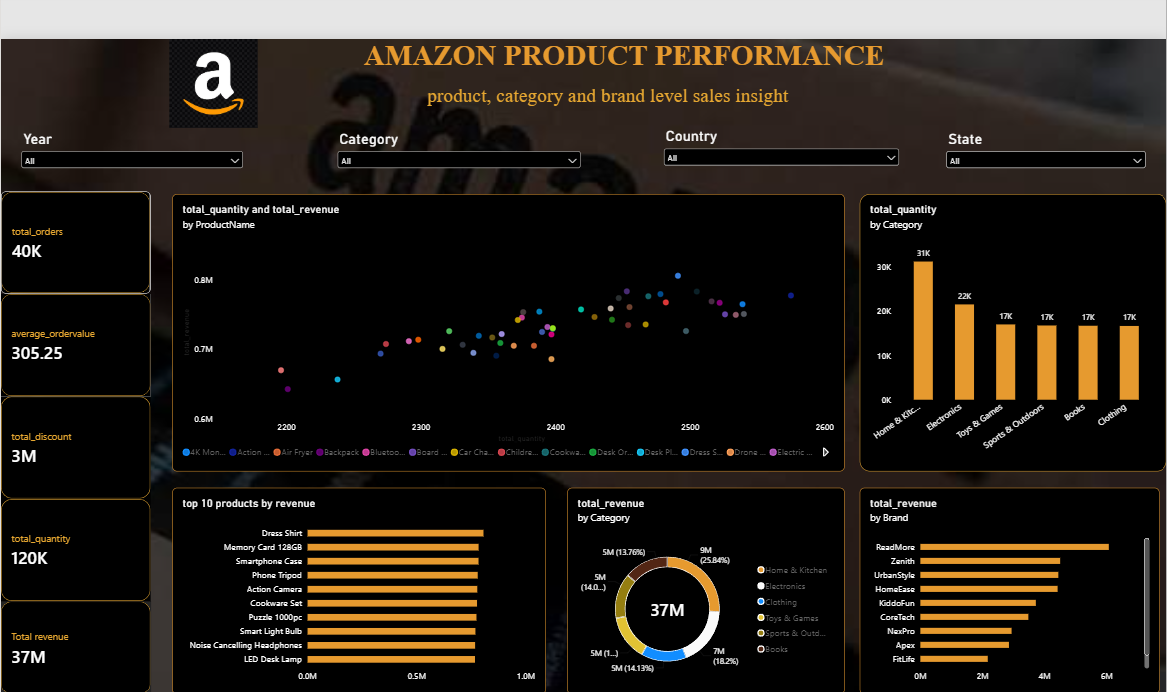

This screenshot's page, from the dashboard's own definition file:
{"tool":"powerbi","page":{"name":"Product performance","canvas":[1920,1080],"ordinal":1},"visuals":[{"type":"textbox","box":[275.8,0,1500.5,98.8],"z":0},{"type":"textbox","box":[701.9,74.1,977.7,72],"z":1000},{"type":"image","box":[181.1,0,337.6,146.1],"z":2000},{"type":"cardVisual","title":"total revenue","fields":{"Data":["factorders.total_revenue"]},"box":[0,926.2,247,154.4],"z":3000},{"type":"cardVisual","fields":{"Data":["factorders.total_quantity"]},"box":[0,757.5,246,168.8],"z":4000},{"type":"cardVisual","fields":{"Data":["factorders.average_ordervalue"]},"box":[0,419.9,246,168.8],"z":5000},{"type":"cardVisual","fields":{"Data":["factorders.total_discount"]},"box":[0,588.7,246,168.8],"z":6000},{"type":"cardVisual","fields":{"Data":["factorders.total_orders"]},"box":[0,251.1,246,168],"z":7000},{"type":"clusteredColumnChart","fields":{"Category":["dimproduct.Category"],"Y":["factorders.total_quantity"]},"box":[1414.1,255.2,506.3,456.9],"z":8000},{"type":"clusteredBarChart","title":"top 10 products by revenue","fields":{"Y":["factorders.total_revenue"],"Category":["dimproduct.ProductName"]},"box":[282,738.9,615.4,341.7],"z":9000},{"type":"donutChart","fields":{"Y":["factorders.total_revenue"],"Category":["dimproduct.Category"]},"box":[932.4,738.9,456.9,341.7],"z":10000},{"type":"clusteredBarChart","fields":{"Y":["factorders.total_revenue"],"Category":["dimproduct.Brand"]},"box":[1414.1,738.9,494,341.7],"z":11000},{"type":"slicer","title":"year","fields":{"Values":["DimDate.Year"]},"box":[28.8,150.3,374.6,105],"z":12000},{"type":"slicer","fields":{"Values":["dimproduct.Category"]},"box":[549.6,150.3,409.6,86.4],"z":13000},{"type":"slicer","fields":{"Values":["dimcustomer.State"]},"box":[1552,150.3,337.6,94.7],"z":14000},{"type":"slicer","fields":{"Values":["dimcustomer.Country"]},"box":[1086.8,146.1,397.3,125.6],"z":15000},{"type":"scatterChart","fields":{"X":["factorders.total_quantity"],"Y":["factorders.total_revenue"],"Series":["dimproduct.ProductName"]},"box":[282,255.2,1107.4,456.9],"z":16000}]}

Visuals, with their boxes on the page's 1920x1080 design canvas (x1, y1, x2, y2). These are canvas units, not pixel positions in the 1167x692 screenshot, which may show the page scaled, cropped or inside an application window:
textbox: x1=276, y1=0, x2=1776, y2=99
textbox: x1=702, y1=74, x2=1680, y2=146
image: x1=181, y1=0, x2=519, y2=146
"total revenue" cardVisual: x1=0, y1=926, x2=247, y2=1081
cardVisual - factorders.total_quantity: x1=0, y1=758, x2=246, y2=926
cardVisual - factorders.average_ordervalue: x1=0, y1=420, x2=246, y2=589
cardVisual - factorders.total_discount: x1=0, y1=589, x2=246, y2=758
cardVisual - factorders.total_orders: x1=0, y1=251, x2=246, y2=419
clusteredColumnChart - dimproduct.Category x factorders.total_quantity: x1=1414, y1=255, x2=1920, y2=712
"top 10 products by revenue" clusteredBarChart: x1=282, y1=739, x2=897, y2=1081
donutChart - factorders.total_revenue x dimproduct.Category: x1=932, y1=739, x2=1389, y2=1081
clusteredBarChart - factorders.total_revenue x dimproduct.Brand: x1=1414, y1=739, x2=1908, y2=1081
"year" slicer: x1=29, y1=150, x2=403, y2=255
slicer - dimproduct.Category: x1=550, y1=150, x2=959, y2=237
slicer - dimcustomer.State: x1=1552, y1=150, x2=1890, y2=245
slicer - dimcustomer.Country: x1=1087, y1=146, x2=1484, y2=272
scatterChart - factorders.total_quantity x factorders.total_revenue: x1=282, y1=255, x2=1389, y2=712
